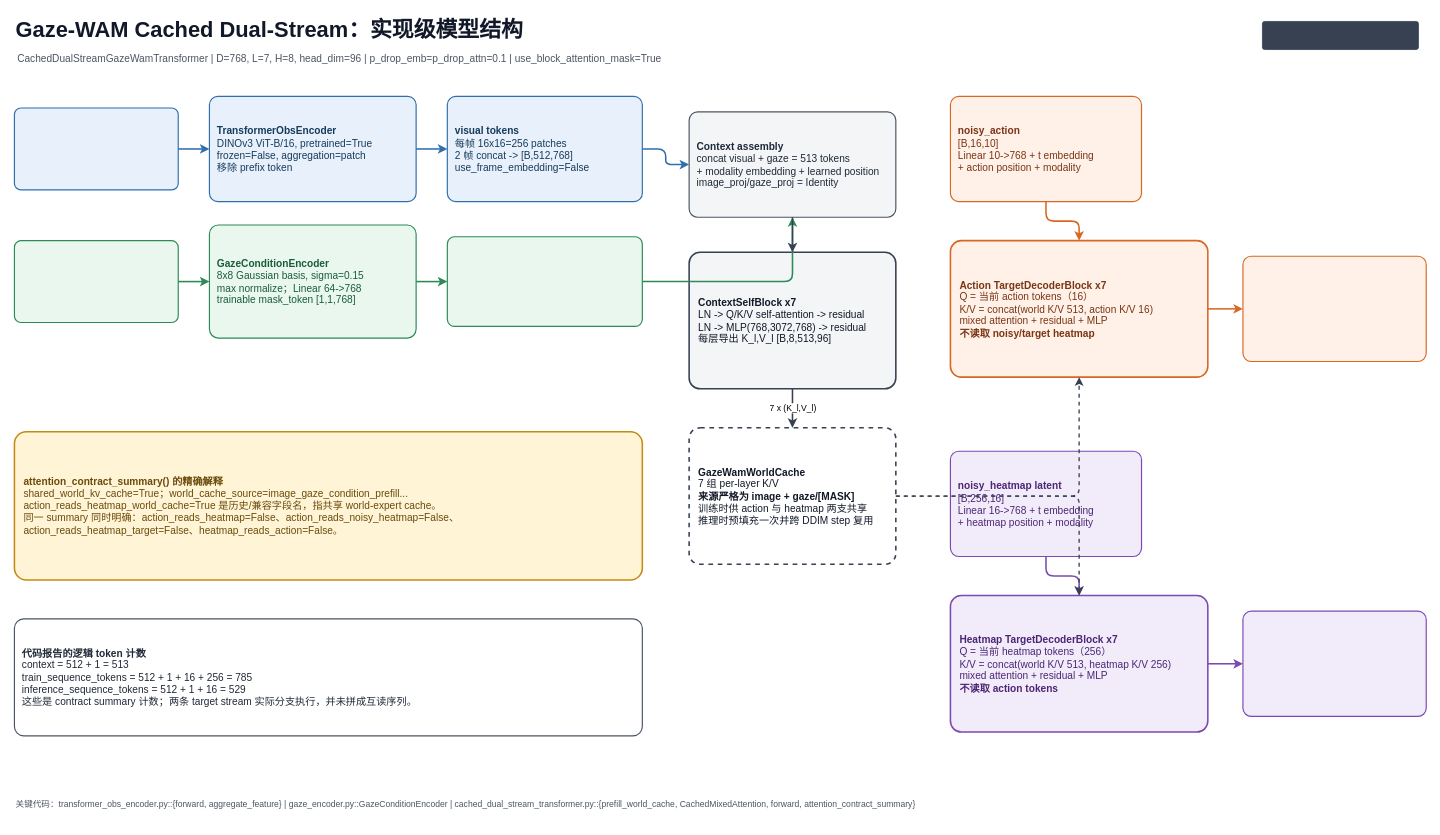
The diagram is 1440 pixels wide and 835 high, and some of its shapes have lost their labels. Each missing label, with the centre of its shape:
"action_ln_f + Linear 768->10 pred_action [B,16,10] 默认 prediction_type=epsilon" goes at point 1334,308.
"camera0_rgb [B,2,3,256,256] ColorJitter + ImageNet Normalize" goes at point 95,148.
"gaze / [MASK] token torch.where(use_gaze, encoded, mask) [B,1,768]" goes at point 544,281.
"gaze_xy [B,2], normalized [0,1] has_gaze_label + use_gaze_condition" goes at point 95,281.
"heatmap_ln_f + Linear 768->16 pred_heatmap [B,256,16] 主配置下先还原 clean latent，再解码监督" goes at point 1334,663.
"MODEL FORWARD" goes at point 1340,35.
